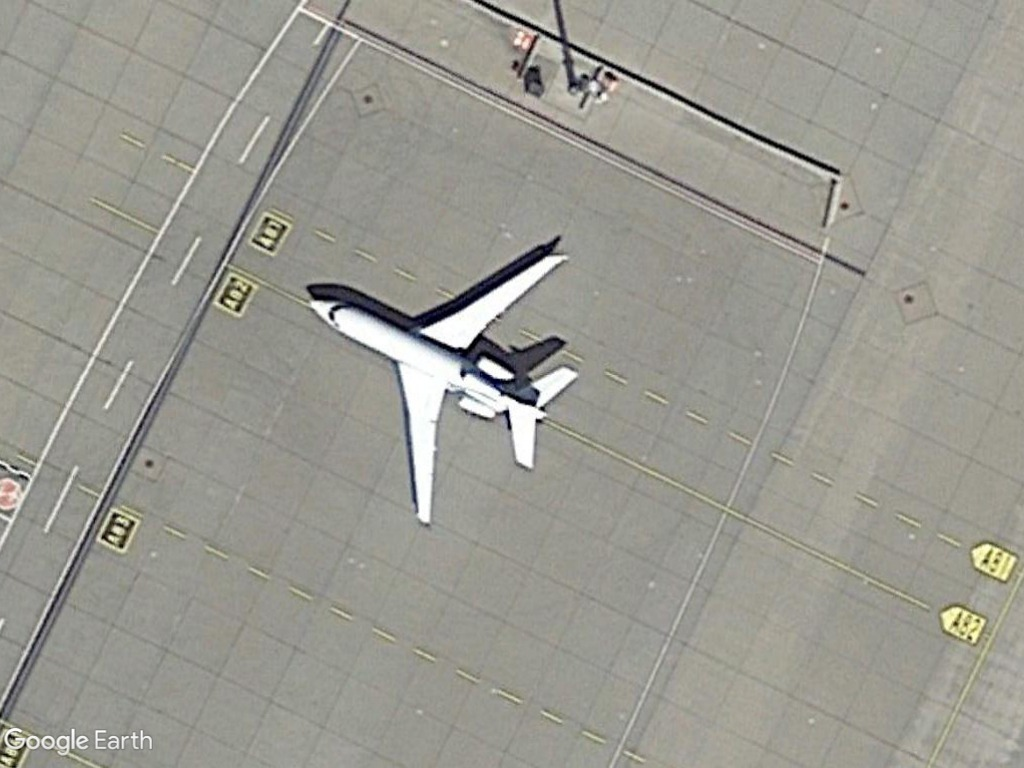chartered: (306, 251, 581, 531)
